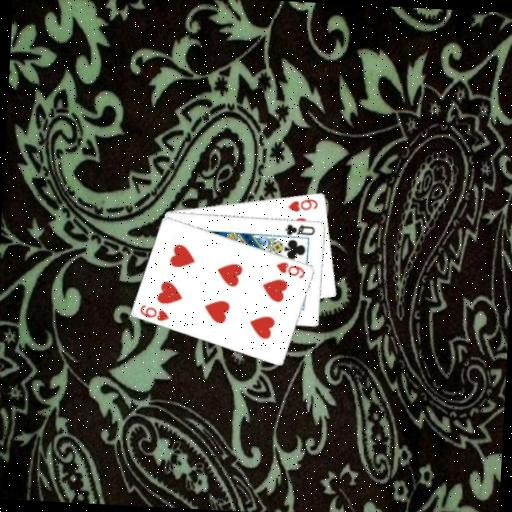6H: (273, 259, 308, 281), (137, 301, 172, 323), (286, 195, 320, 215)
QC: (282, 221, 317, 238)
